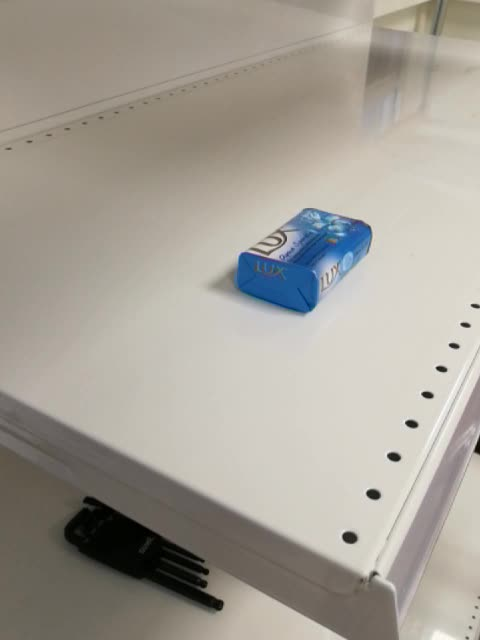soap: (233, 203, 374, 314)
